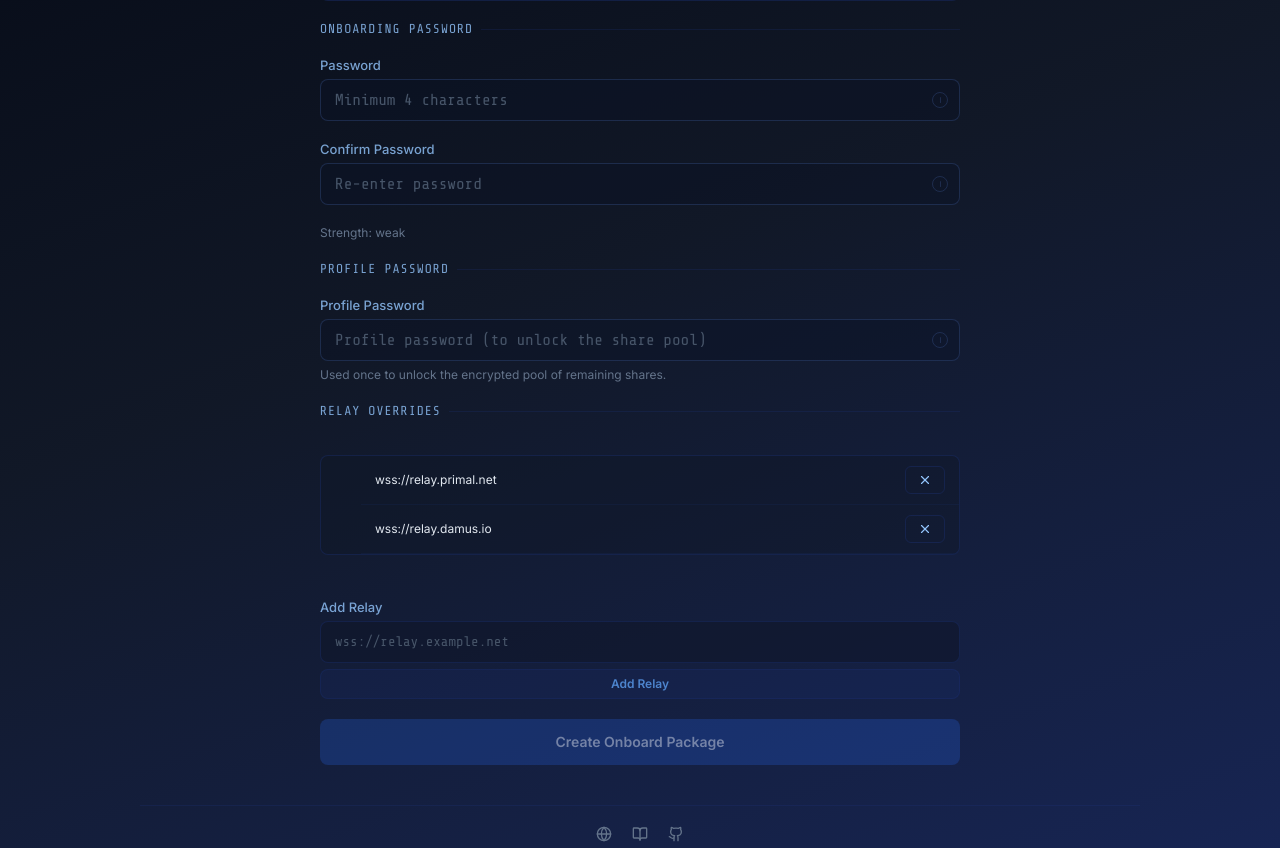
Test: OnboardSponsorConfigScreen — VAL-ONBOARD-003 / 019 / 021 / 024 › rejects invalid relay overrides with canonical wss:// copy
(page scrolled)
Type "http://evil.example" into the field with test id "onboard-sponsor-add-relay-input" at (640, 642), box [320, 621, 960, 663]
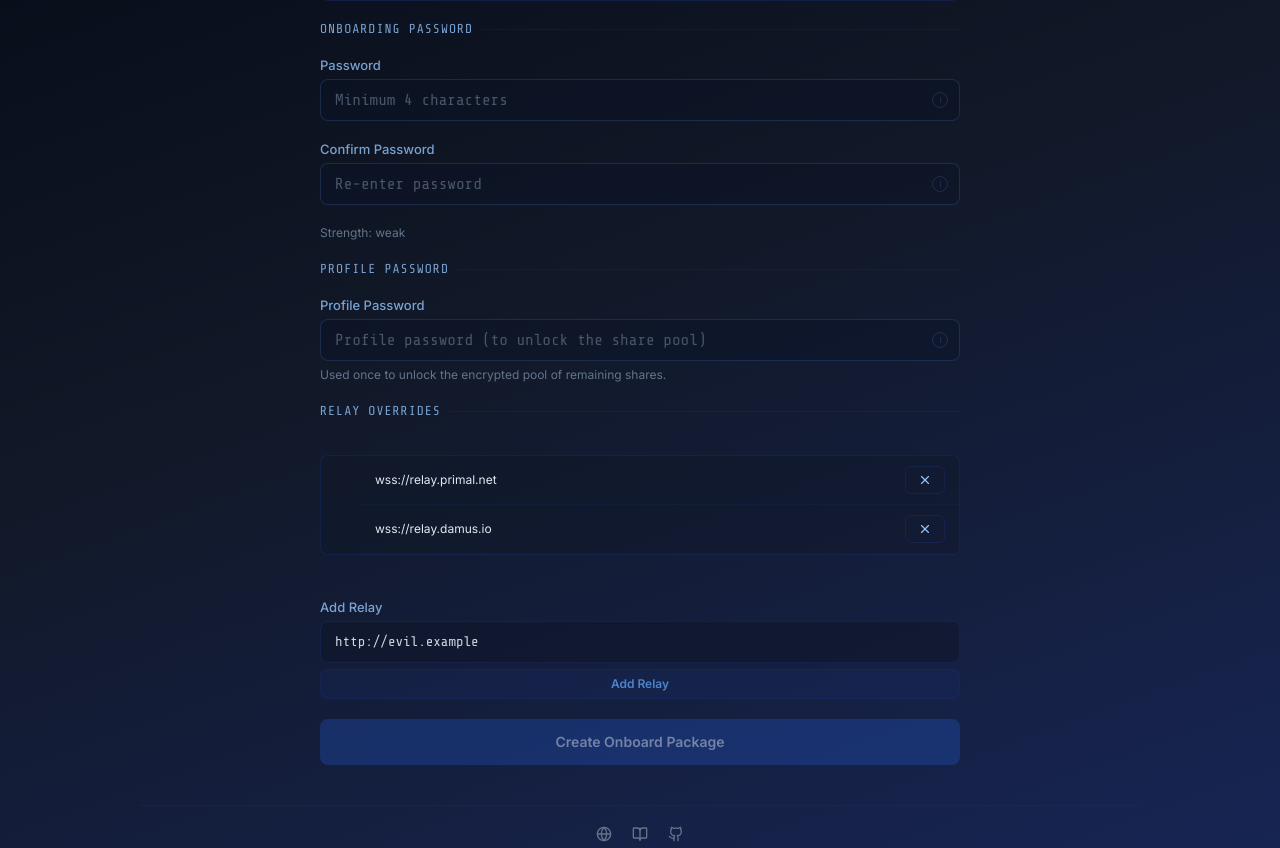
Click the button with test id "onboard-sponsor-add-relay-btn" at (640, 684), box [320, 669, 960, 699]
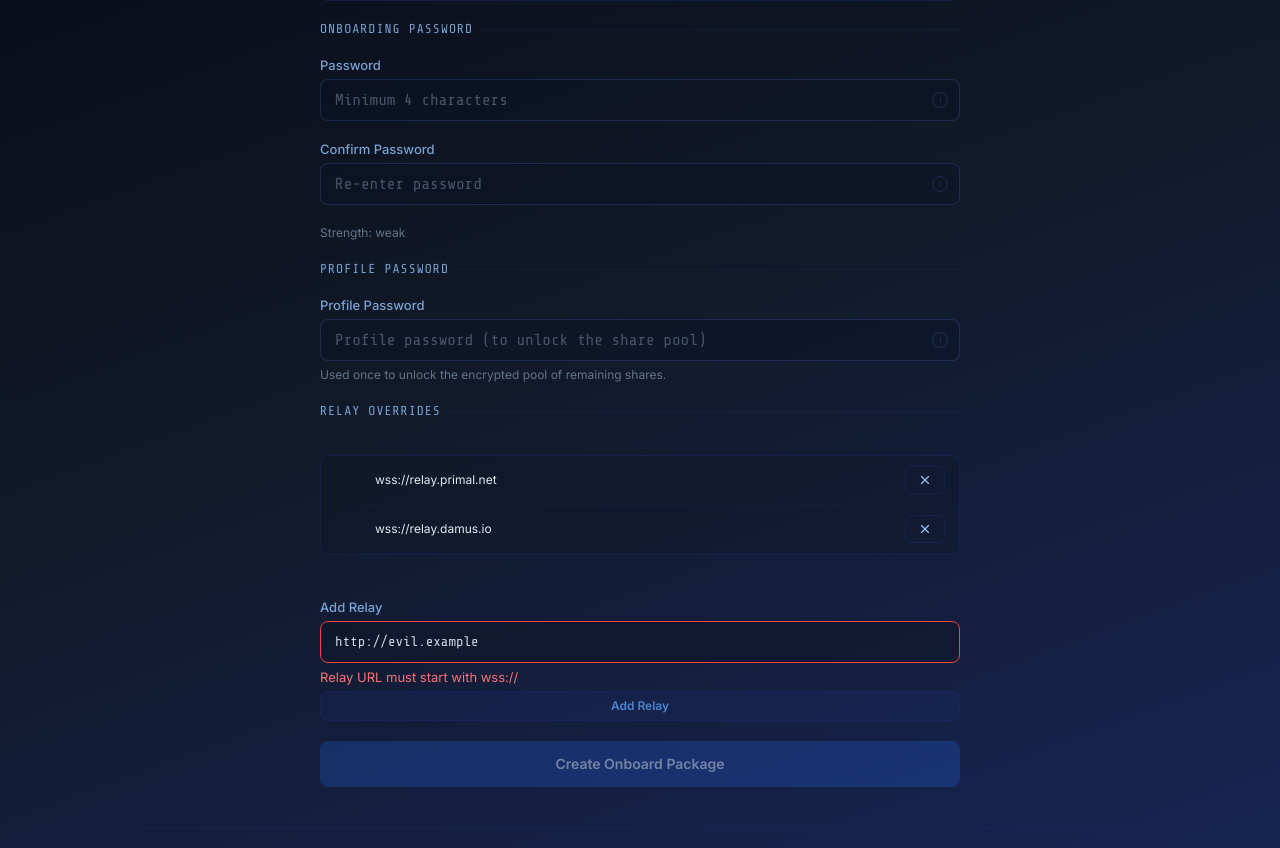
Expected: the text with test id "onboard-sponsor-add-relay-error" reads "Relay URL must start with wss://", [320, 669, 518, 685]
